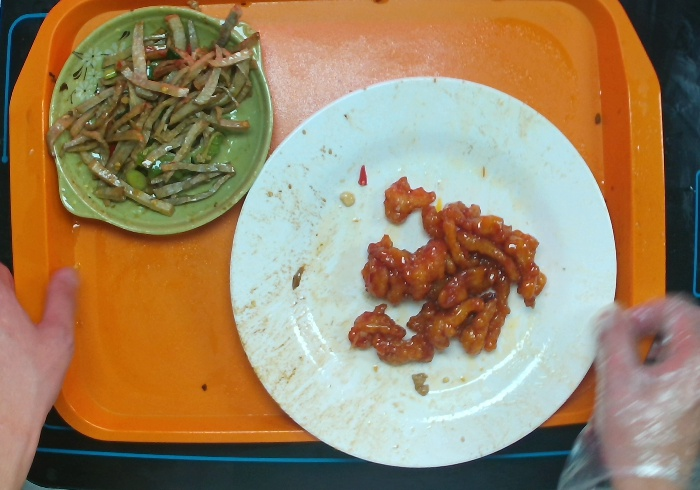NLDX-Da_Yuan_Pan: (228, 74, 619, 470)
NLDX-Lv_Hua_Shuang_Er_Die: (47, 4, 276, 236)
